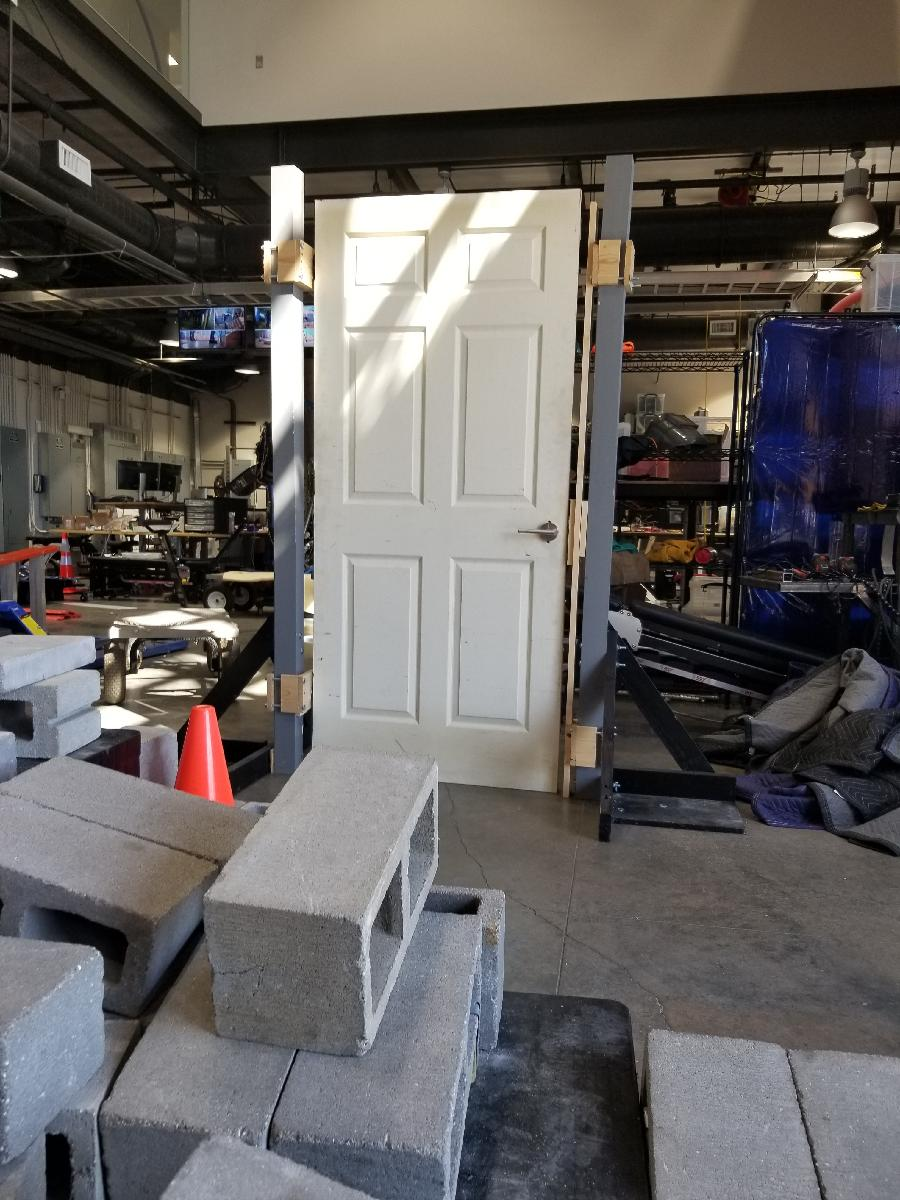door: (309, 186, 584, 800)
doorHandle: (503, 519, 571, 554)
